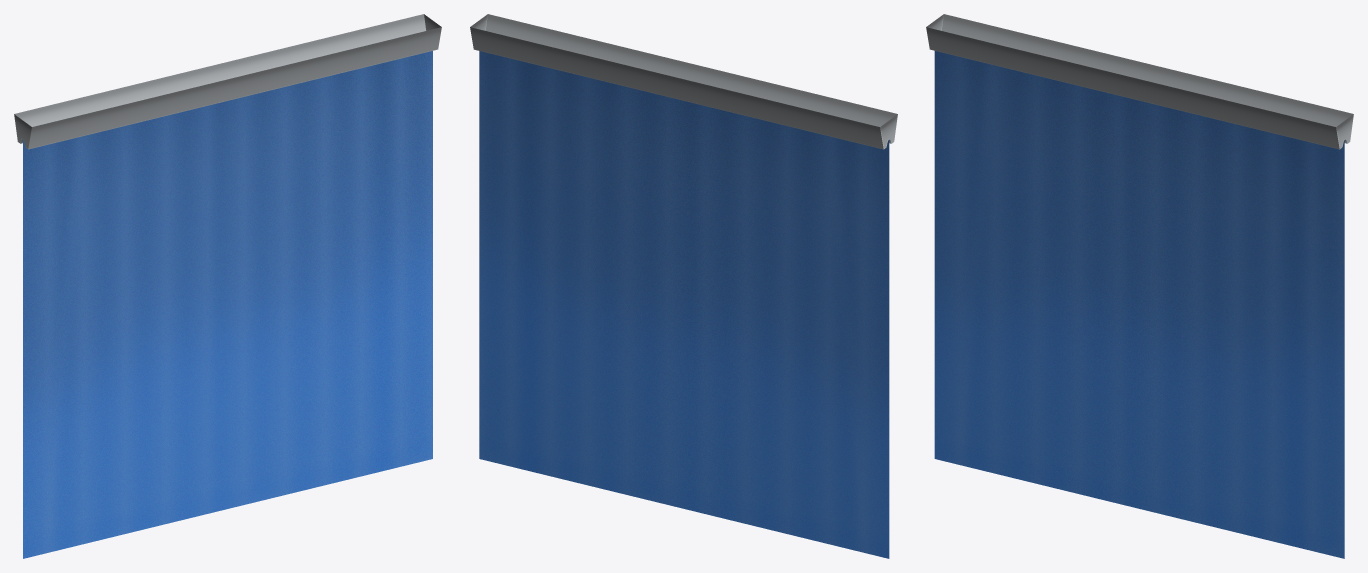
The model's file is Curtain-obj.obj.
The picture shows the model from 3 angles, left to right: view 1: azimuth 30°, elevation 25°; view 2: azimuth 150°, elevation 25°; view 3: azimuth 330°, elevation 25°; orthographic projection.
Visible parts, largest first — view 1: Curtain_cloth, Curtain_runner; view 2: Curtain_cloth, Curtain_runner; view 3: Curtain_cloth, Curtain_runner.
Boxes of the visible parts, box(x1,y1,x2,y2) form: Curtain_cloth: box(23, 51, 432, 558); Curtain_runner: box(14, 14, 441, 149); Curtain_cloth: box(479, 51, 889, 558); Curtain_runner: box(470, 14, 897, 149); Curtain_cloth: box(934, 51, 1344, 558); Curtain_runner: box(926, 14, 1353, 149).
Size of the model in its own units: 2 by 2.04 by 0.1516.
Materials: 1 (1 with a texture image).
